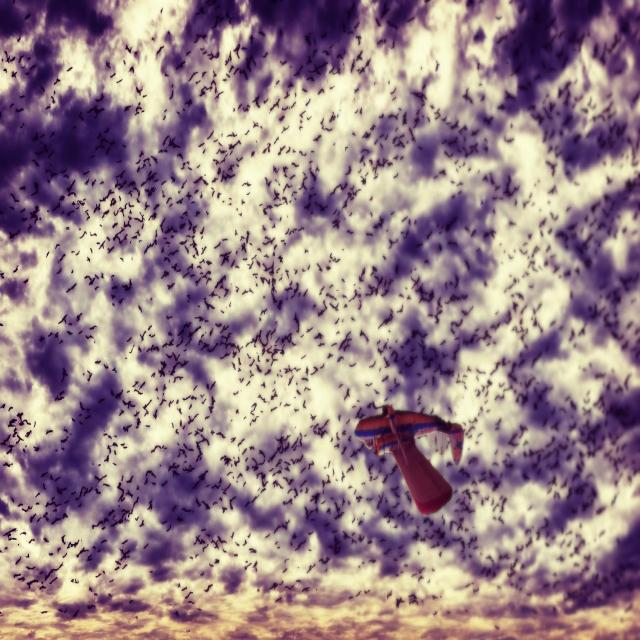airplane: (354, 404, 464, 516)
